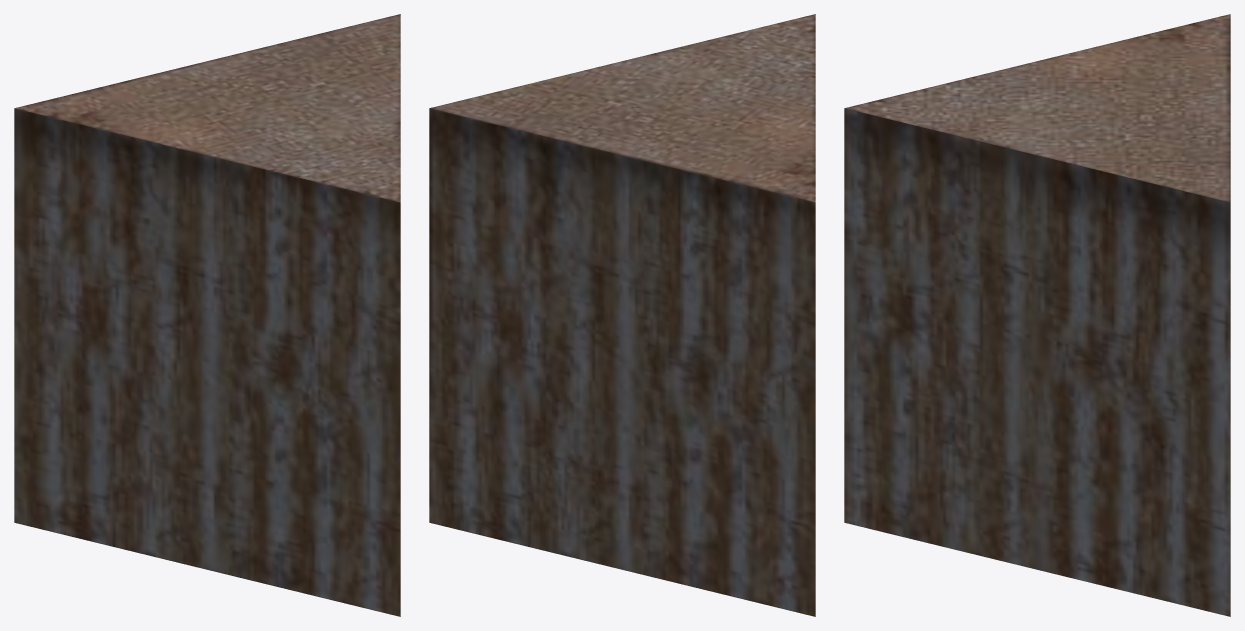
File: metal_foundation_triangle_high_textured.glb
3 views of the same model, side by side, from view 1: azimuth 30°, elevation 25°; view 2: azimuth 150°, elevation 25°; view 3: azimuth 270°, elevation 25° (orthographic).
Visible parts, largest first — view 1: Circle; view 2: Circle; view 3: Circle.
Boxes of the visible parts, x1,y1,x2,y2 form: Circle: (14,14,400,616); Circle: (429,14,815,616); Circle: (844,14,1230,616).
Size of the model in its own units: 2 by 2.05 by 1.73.
Materials: 1 (1 with a texture image).
